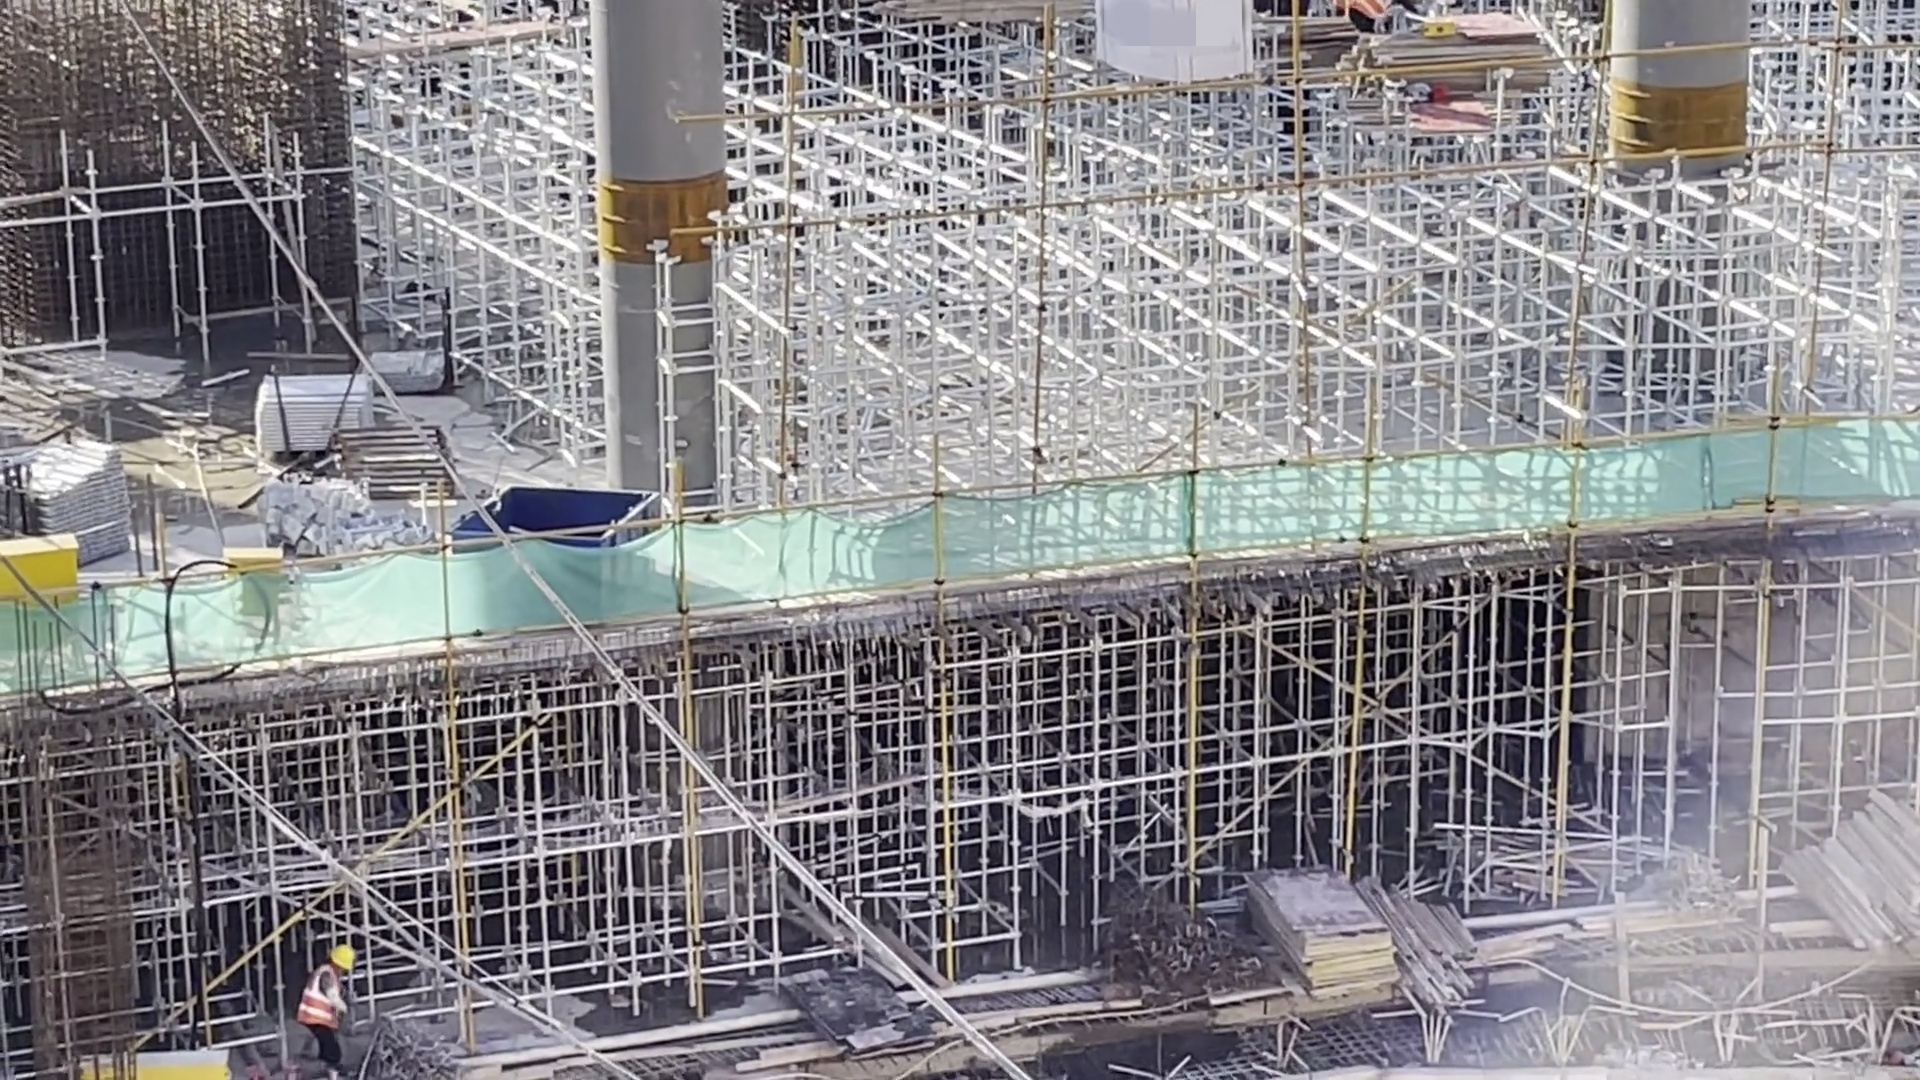board: (1254, 854, 1416, 1032), (1409, 1, 1564, 101)
ebox: (1, 567, 104, 661), (71, 1026, 239, 1080), (238, 549, 309, 629)
helmet: (331, 944, 356, 976)
hopper: (468, 482, 689, 647)
person: (306, 935, 353, 1070), (1338, 1, 1383, 31)
scaffold: (1, 444, 124, 572), (274, 381, 363, 454)
vest: (313, 977, 334, 1032), (1343, 1, 1398, 19)
wood: (1803, 779, 1920, 921)
